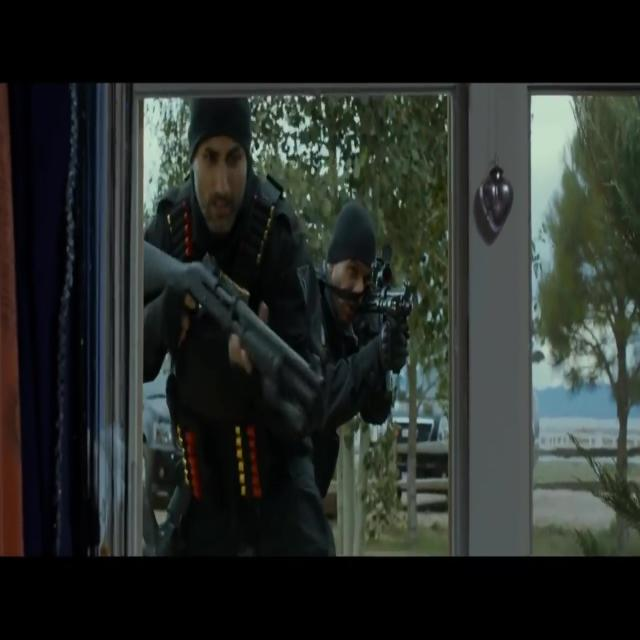Weapon: (130, 182, 326, 432), (339, 218, 479, 406), (166, 405, 295, 555)
